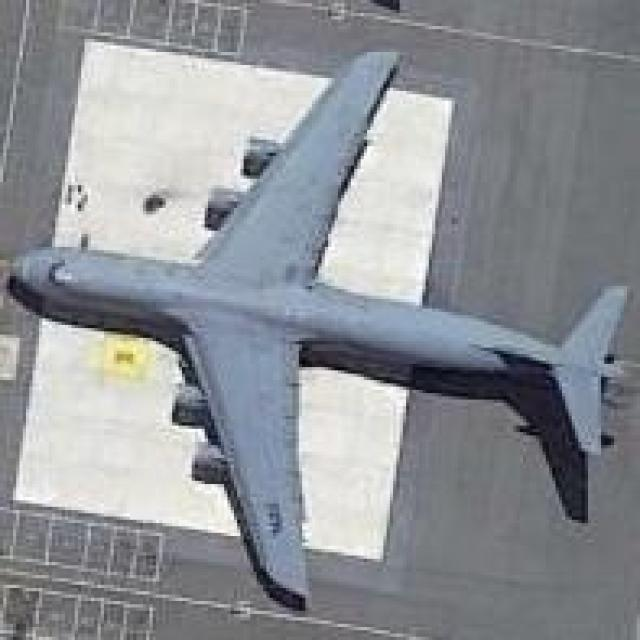C-5_TopDown: (6, 50, 634, 617)
